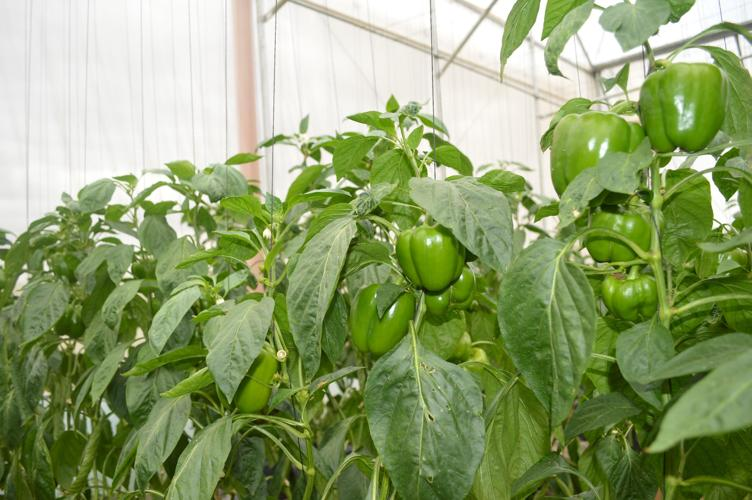BellPepper: (543, 104, 637, 223), (623, 56, 723, 152), (344, 282, 424, 367), (382, 217, 467, 290), (582, 208, 665, 271), (590, 270, 665, 335), (221, 343, 277, 413), (420, 270, 487, 326)
